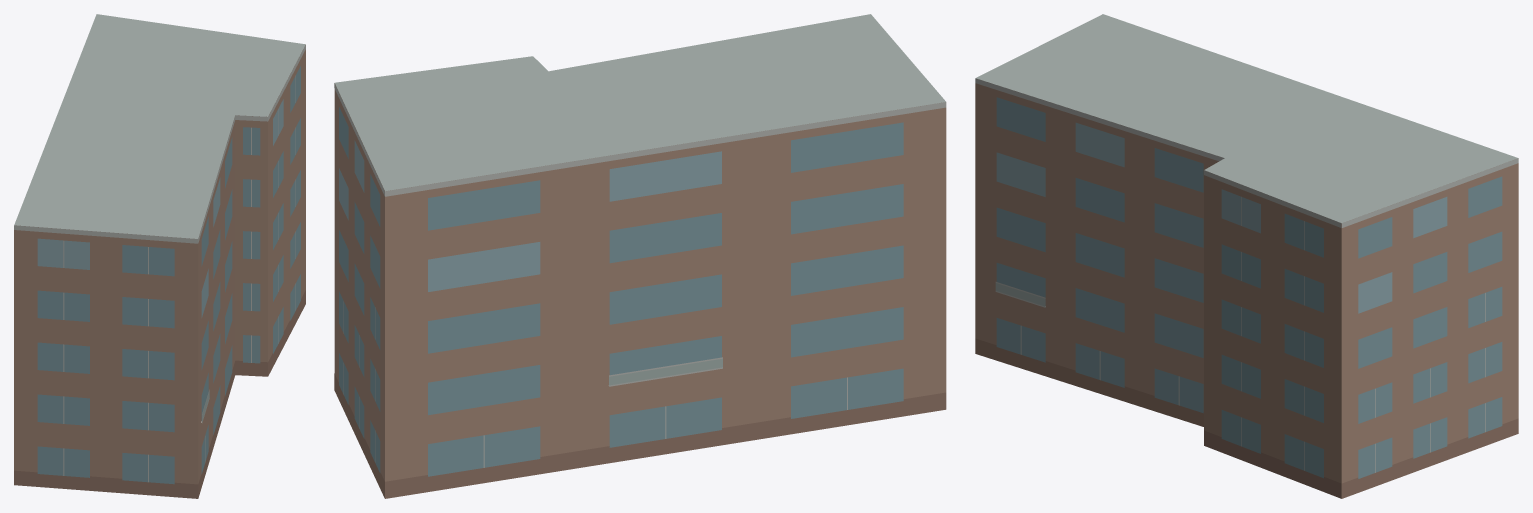
Rendered from survey-upis-32670560.glb.
The picture shows the model from 3 angles, left to right: view 1: azimuth 30°, elevation 25°; view 2: azimuth 150°, elevation 25°; view 3: azimuth 270°, elevation 25°; orthographic projection. The views are drawn at different scales.
Parts seen in each view (by area): view 1: survey-upis-32670560.tmp; view 2: survey-upis-32670560.tmp; view 3: survey-upis-32670560.tmp.
Part boxes in pixels (x1=…): survey-upis-32670560.tmp: x1=14, y1=14, x2=305, y2=498; survey-upis-32670560.tmp: x1=334, y1=14, x2=946, y2=498; survey-upis-32670560.tmp: x1=975, y1=14, x2=1518, y2=498.
Size of the model in its own units: 21.99 by 13.5 by 24.12.
